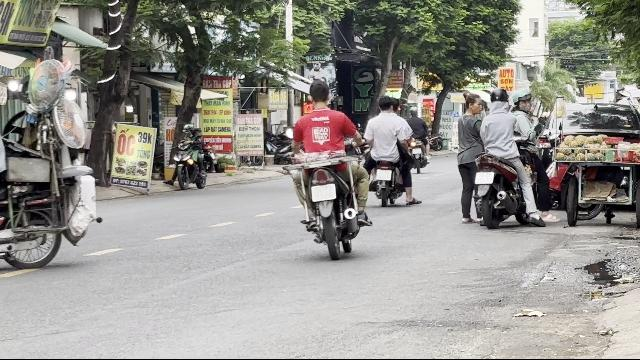helmet: (509, 88, 533, 110), (487, 86, 507, 109)
licenseplate: (312, 184, 336, 202), (474, 172, 494, 184), (376, 169, 392, 181)
motorcyclist: (284, 78, 371, 258), (456, 84, 538, 228), (361, 94, 417, 206)
nohelmet: (307, 80, 331, 109), (376, 94, 394, 114)
